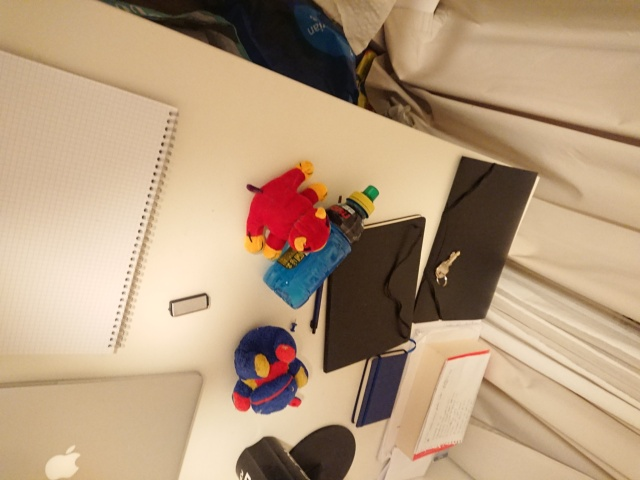Vindi Iso Sport Forest Strawberries 500mL: (259, 183, 380, 310)
